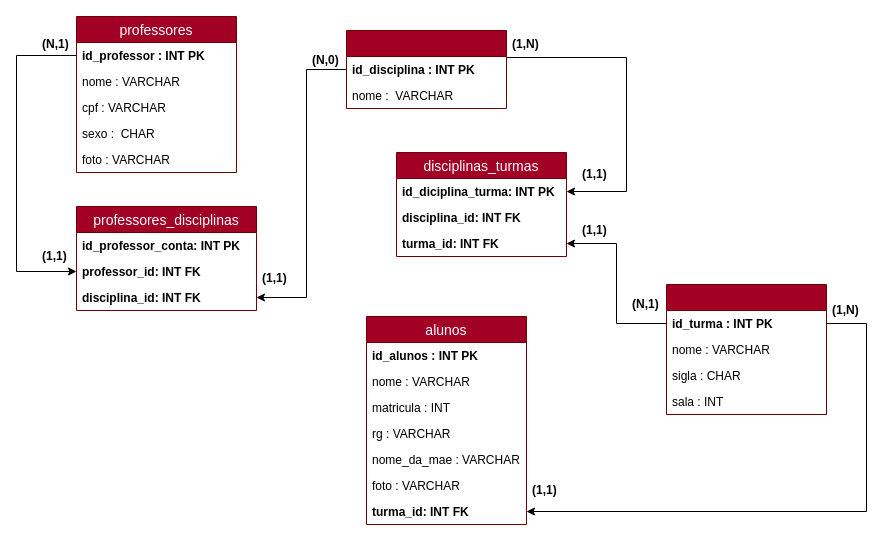
The diagram is 883 pixels wide and 541 high, and some of its shapes have lost their labels. The box of each missing label's shape, as (x1, y1, x2, y2) in pixels:
disciplinas: (346, 30, 506, 108)
turmas: (666, 284, 826, 414)
